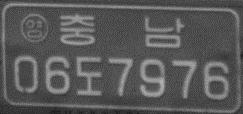0: (13, 54, 39, 94)
6: (202, 61, 231, 100), (43, 55, 71, 95)
7: (170, 59, 198, 100), (107, 56, 134, 97)
9: (139, 58, 166, 98)
도: (75, 55, 104, 96)
영: (19, 12, 50, 43)
충남_D: (59, 13, 184, 49)
